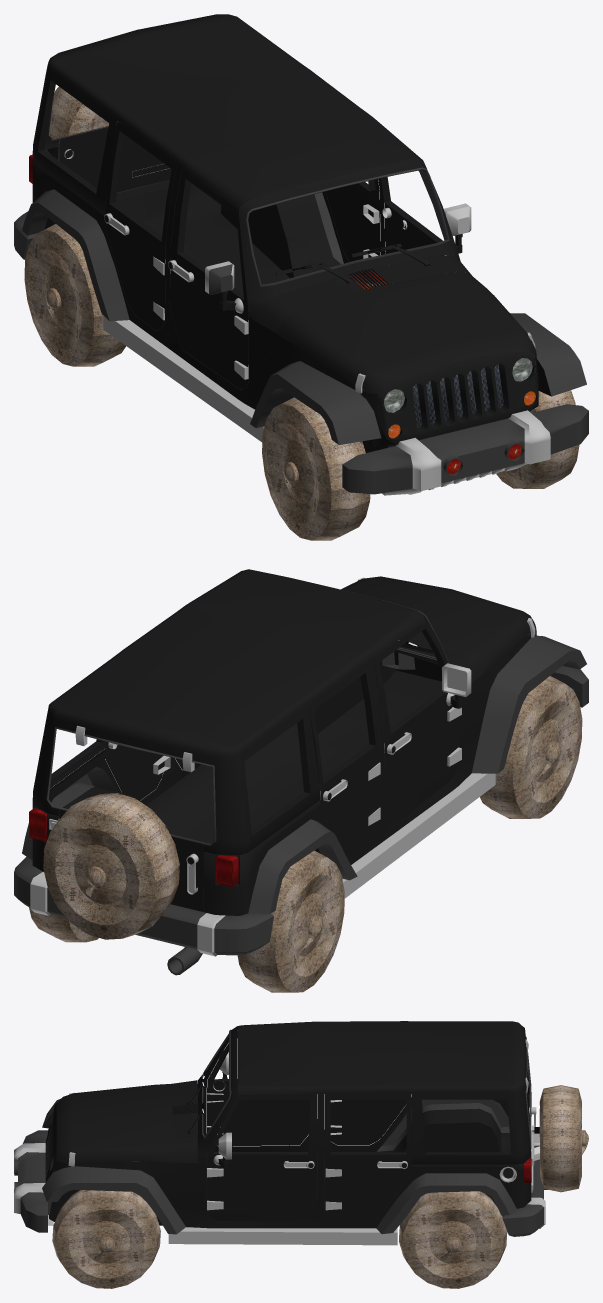
File: suv 2.fbx
The picture shows the model from 3 angles, top to bottom: view 1: azimuth 30°, elevation 25°; view 2: azimuth 150°, elevation 25°; view 3: azimuth 270°, elevation 25°; orthographic projection. The views are drawn at different scales.
Parts seen in each view (by area): view 1: body3, pasted__WFL__1_, pasted__WFL__1_1, pasted__WFL__1_3, pasted__WFL__1_4; view 2: body3, pasted__WFL__1_4, pasted__WFL__1_1, pasted__WFL__1_, pasted__WFL__1_2; view 3: body3, pasted__WFL__1_3, pasted__WFL__1_2, pasted__WFL__1_4.
Part boxes in pixels (x1=…): body3: x1=14, y1=14, x2=588, y2=495; pasted__WFL__1_: x1=262, y1=397, x2=370, y2=540; pasted__WFL__1_1: x1=24, y1=224, x2=125, y2=366; pasted__WFL__1_3: x1=496, y1=390, x2=579, y2=488; pasted__WFL__1_4: x1=49, y1=87, x2=119, y2=160; body3: x1=14, y1=569, x2=588, y2=975; pasted__WFL__1_4: x1=43, y1=793, x2=179, y2=939; pasted__WFL__1_1: x1=237, y1=850, x2=344, y2=992; pasted__WFL__1_: x1=480, y1=676, x2=582, y2=818; pasted__WFL__1_2: x1=29, y1=907, x2=98, y2=942; body3: x1=14, y1=1021, x2=548, y2=1245; pasted__WFL__1_3: x1=52, y1=1190, x2=160, y2=1288; pasted__WFL__1_2: x1=399, y1=1191, x2=507, y2=1288; pasted__WFL__1_4: x1=539, y1=1085, x2=588, y2=1192.
Bounding box in the file's own units: 196 × 187 × 493.
